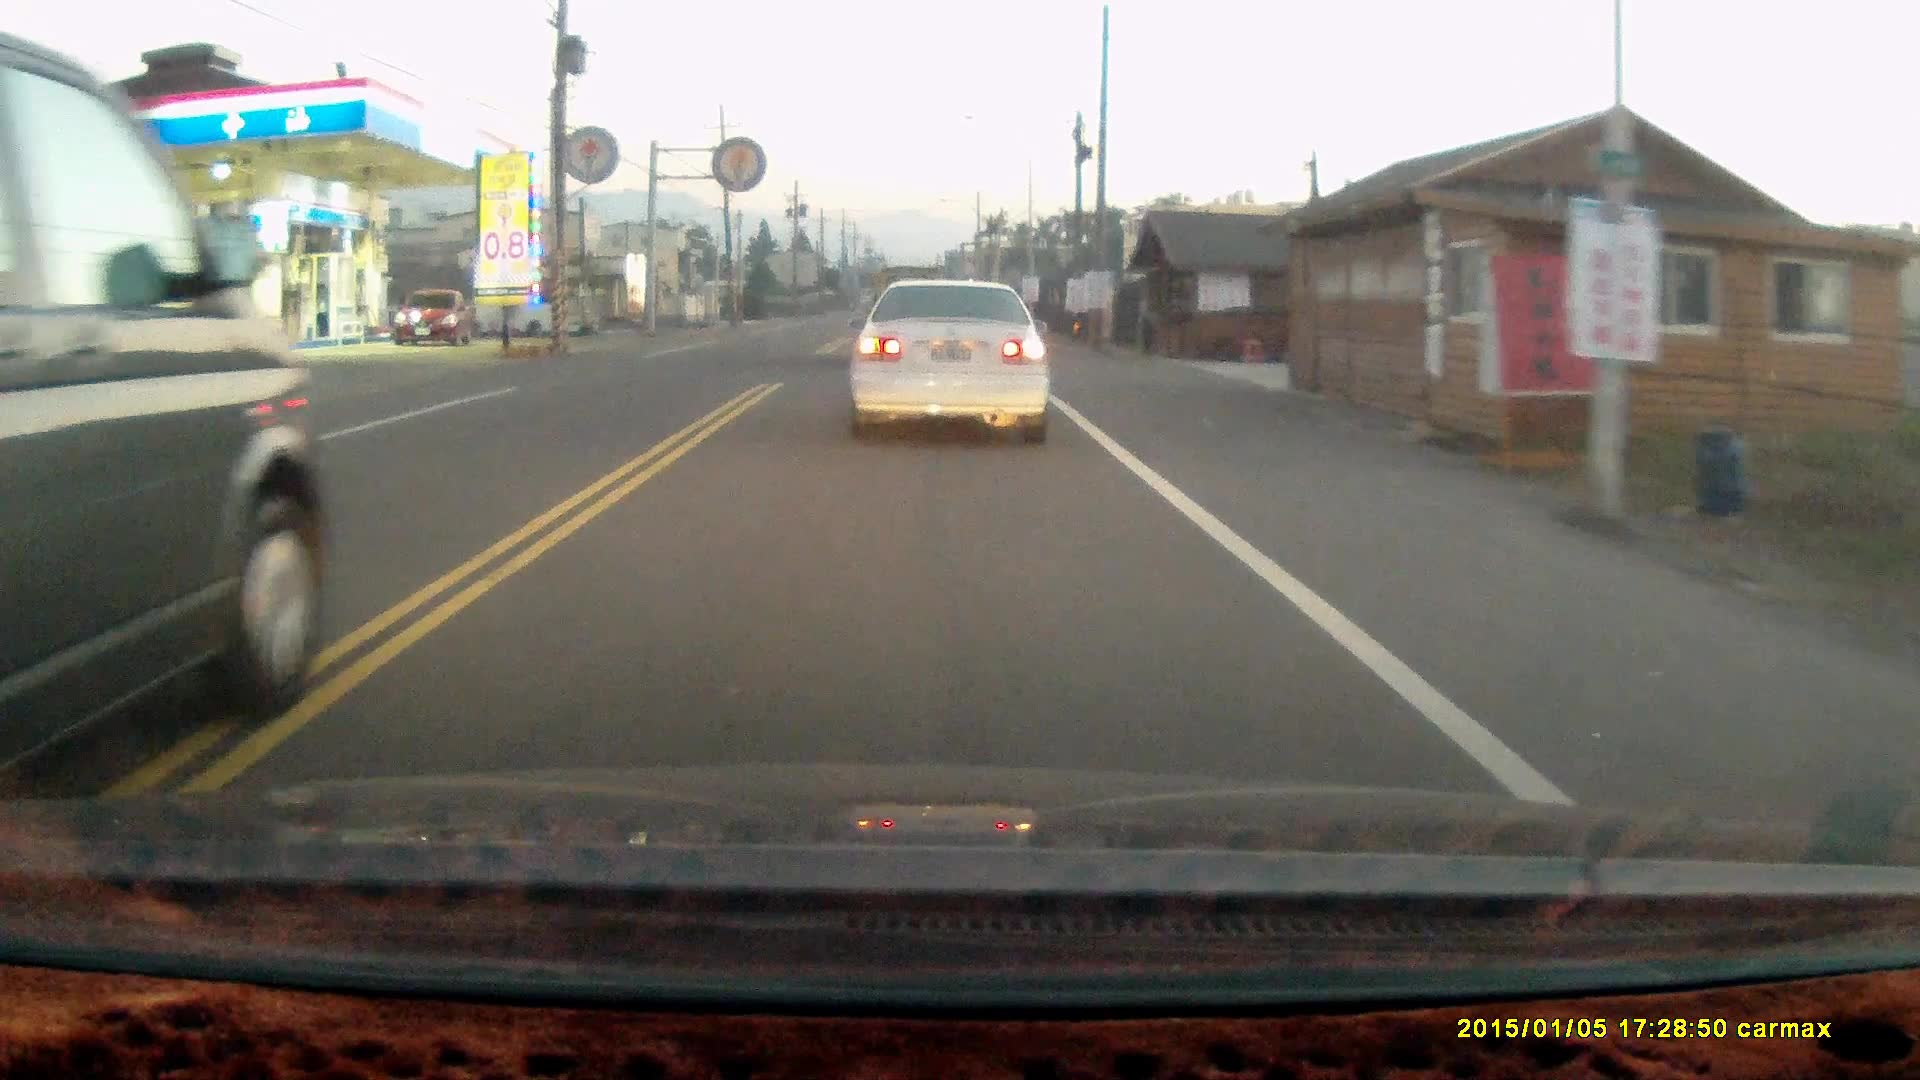vehicle: (1, 30, 322, 786), (847, 280, 1055, 456), (390, 291, 472, 345)
